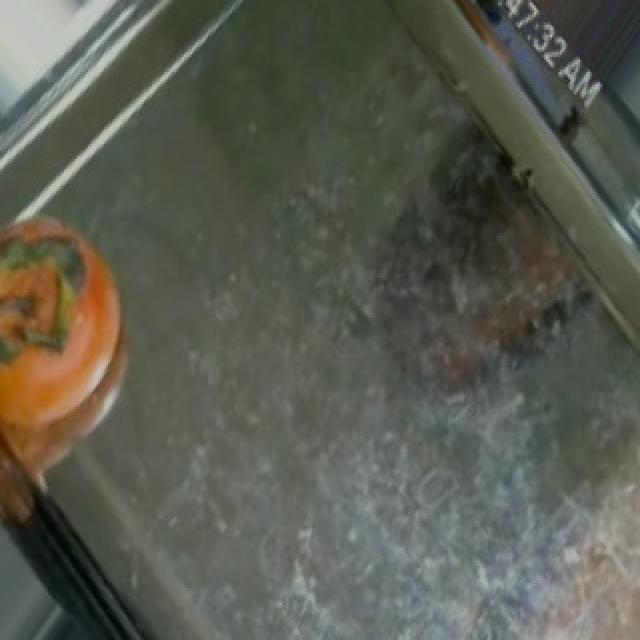Fruit: (2, 206, 152, 494)
